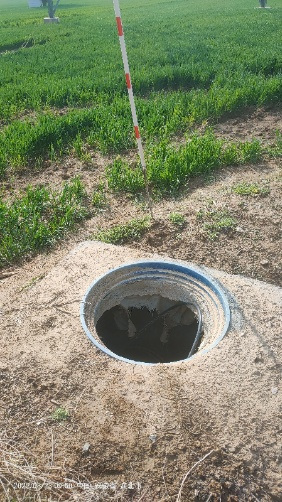well: (81, 259, 232, 364)
